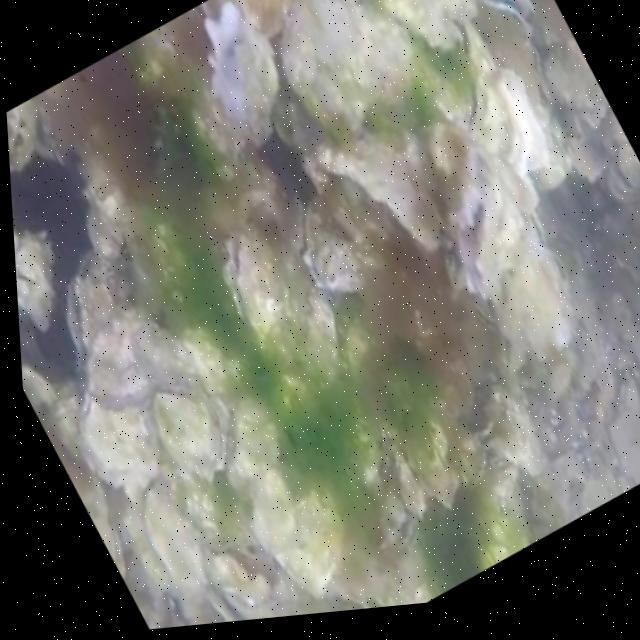Oyster-Closed: (493, 210, 575, 351), (81, 389, 159, 492), (152, 391, 230, 483), (305, 198, 368, 292), (78, 477, 131, 579), (461, 20, 499, 143), (8, 102, 38, 166), (498, 333, 527, 371), (470, 298, 496, 333)
Oyster-Indeterminate: (284, 0, 421, 142), (321, 131, 447, 250), (250, 467, 345, 592), (143, 489, 207, 590), (227, 396, 282, 483), (304, 291, 342, 385), (569, 135, 606, 181), (618, 140, 640, 184)
Oyster-Open: (221, 221, 305, 346), (457, 154, 518, 304), (66, 248, 126, 385), (207, 0, 267, 126), (379, 0, 482, 44), (481, 0, 542, 68)
